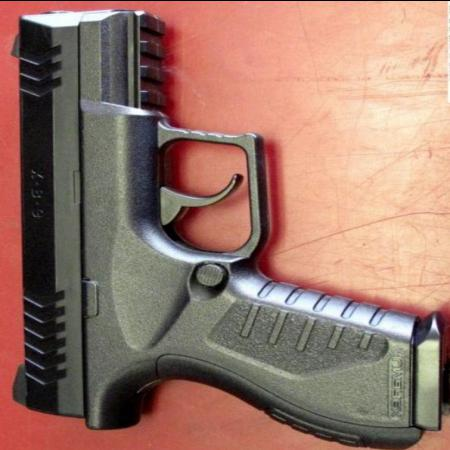Pistol: (3, 8, 449, 445)
